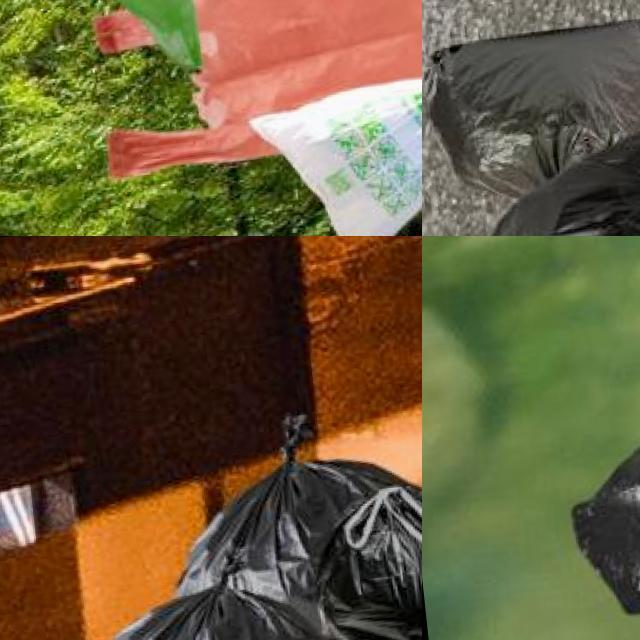waste: (111, 409, 422, 640), (423, 24, 640, 190), (247, 68, 422, 236), (14, 0, 349, 64), (474, 120, 640, 236), (561, 402, 640, 610)
